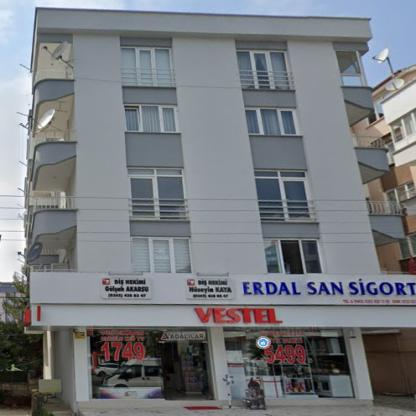window: (254, 169, 316, 221), (128, 168, 187, 220), (132, 236, 193, 274), (121, 44, 175, 86), (236, 50, 292, 89), (262, 239, 322, 273), (245, 106, 302, 135), (124, 104, 180, 132), (335, 51, 365, 87), (389, 109, 414, 150), (385, 182, 414, 201), (367, 101, 383, 125)
